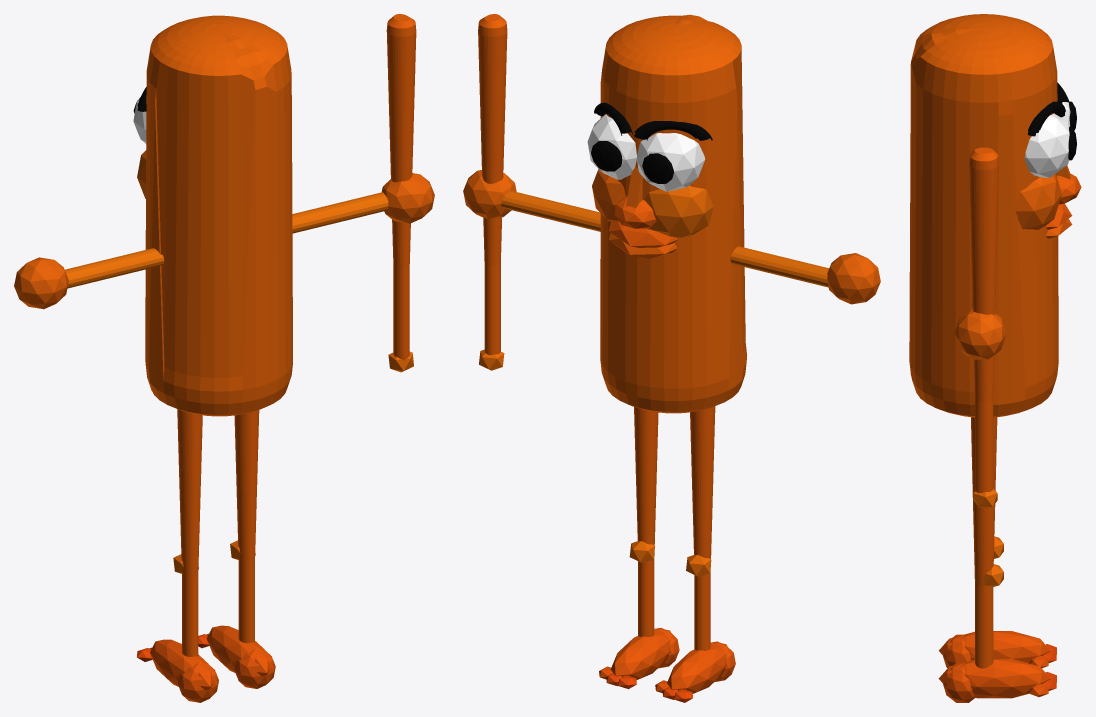
The model's file is sahur_low_polly.glb.
3 renders of one model, left to right at view 1: azimuth 30°, elevation 25°; view 2: azimuth 150°, elevation 25°; view 3: azimuth 270°, elevation 25°, orthographic.
Parts seen in each view (by area): view 1: body_15, Cylinder.003_11, Cylinder.001_1, Cylinder_28, Cylinder.002_8, Icosphere.015_10, Icosphere.014_9, Icosphere.005_29, Icosphere.012_3, Icosphere.006_30, Icosphere.011_4; view 2: body_15, Cylinder.003_11, Cylinder.001_1, Cylinder_28, Cylinder.002_8, Icosphere.003_27, eyeball2_16, Icosphere.015_10, Icosphere.012_3, Icosphere.005_29, Icosphere.014_9, eyeball1_17 (+7 smaller); view 3: body_15, Cylinder.003_11, Cylinder_28, Icosphere.005_29, eyeball1_17, Icosphere.014_9, Icosphere.002_26, Icosphere.012_3, Icosphere.006_30, Icosphere.011_4, Torus_22, tipofnose_20 (+3 smaller).
Part boxes in pixels (x1=…): body_15: x1=145, y1=15, x2=292, y2=416; Cylinder.003_11: x1=386, y1=14, x2=416, y2=360; Cylinder.001_1: x1=177, y1=409, x2=202, y2=656; Cylinder_28: x1=234, y1=410, x2=259, y2=643; Cylinder.002_8: x1=65, y1=192, x2=388, y2=288; Icosphere.015_10: x1=14, y1=257, x2=68, y2=309; Icosphere.014_9: x1=381, y1=173, x2=434, y2=223; Icosphere.005_29: x1=206, y1=625, x2=270, y2=676; Icosphere.012_3: x1=150, y1=639, x2=213, y2=690; Icosphere.006_30: x1=234, y1=649, x2=275, y2=688; Icosphere.011_4: x1=178, y1=663, x2=218, y2=702; body_15: x1=600, y1=14, x2=746, y2=413; Cylinder.003_11: x1=478, y1=14, x2=507, y2=355; Cylinder.001_1: x1=690, y1=406, x2=715, y2=650; Cylinder_28: x1=634, y1=407, x2=658, y2=636; Cylinder.002_8: x1=501, y1=191, x2=828, y2=287; Icosphere.003_27: x1=644, y1=185, x2=713, y2=237; eyeball2_16: x1=636, y1=133, x2=705, y2=191; Icosphere.015_10: x1=827, y1=253, x2=880, y2=304; Icosphere.012_3: x1=667, y1=642, x2=727, y2=693; Icosphere.005_29: x1=610, y1=629, x2=670, y2=680; Icosphere.014_9: x1=463, y1=170, x2=516, y2=218; eyeball1_17: x1=587, y1=114, x2=636, y2=179; body_15: x1=909, y1=14, x2=1058, y2=417; Cylinder.003_11: x1=969, y1=147, x2=998, y2=492; Cylinder_28: x1=971, y1=417, x2=997, y2=668; Icosphere.005_29: x1=938, y1=659, x2=1050, y2=698; eyeball1_17: x1=1024, y1=113, x2=1069, y2=177; Icosphere.014_9: x1=954, y1=308, x2=1006, y2=359; Icosphere.002_26: x1=1015, y1=174, x2=1061, y2=229; Icosphere.012_3: x1=939, y1=631, x2=1050, y2=663; Icosphere.006_30: x1=943, y1=662, x2=975, y2=702; Icosphere.011_4: x1=943, y1=634, x2=971, y2=668; Torus_22: x1=1027, y1=101, x2=1065, y2=136; tipofnose_20: x1=1057, y1=173, x2=1081, y2=204.
Bounding box in the file's own units: 6.43 × 9.77 × 2.3.
